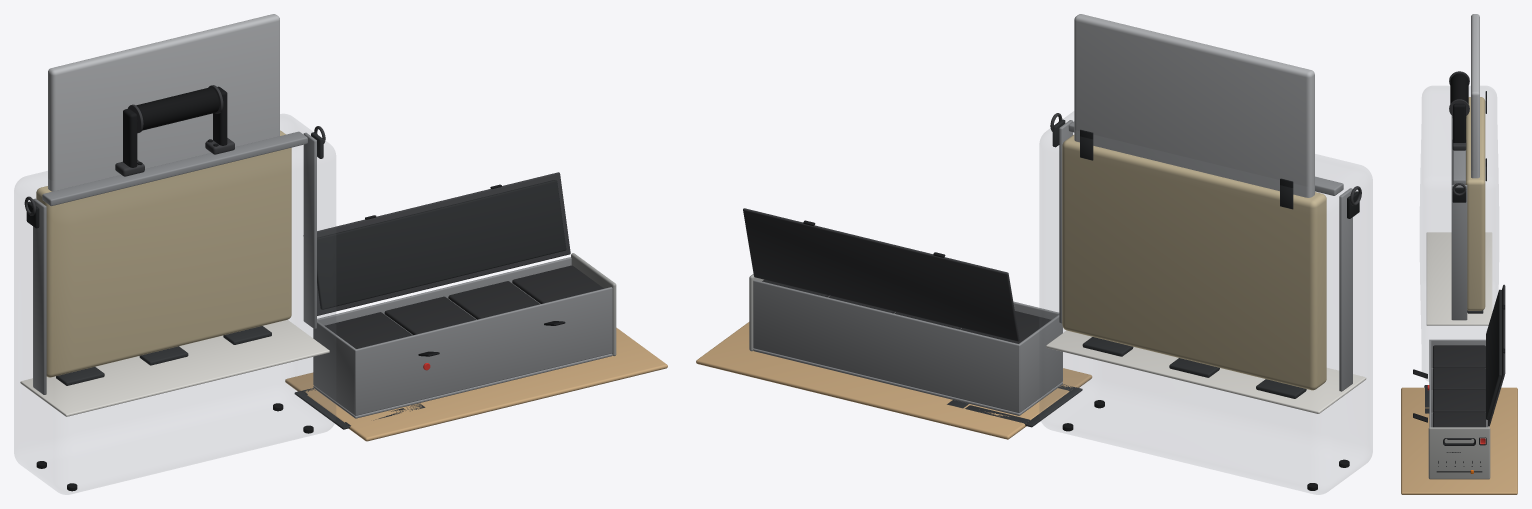
Rendered from heavy-brief-open.glb.
3 renders of one model, left to right at view 1: azimuth 30°, elevation 25°; view 2: azimuth 150°, elevation 25°; view 3: azimuth 270°, elevation 25°, orthographic. The views are drawn at different scales.
Visible parts, largest first — view 1: Brief suspended sleeve.002, Brief body.002, Brief laptop surrogate.002, Brief cassette lid pad.002, Brief cassette front wall.002, Brief HDPE barrier.002, Slide mat / adjacent support (>=450 long), Brief frame bridge.002, Brief cassette lid.002, Brief cassette end wall.002, Brief end stay.005, Brief end stay.004 (+9 smaller); view 2: Brief suspended sleeve.002, Brief body.002, Brief laptop surrogate.002, Brief cassette rear wall.002, Brief cassette lid.002, Slide mat / adjacent support (>=450 long), Brief HDPE barrier.002, Brief cassette end wall.002, Brief end stay.004, Brief cassette floor.002, Brief end stay.005, Brief brick s0p2.002; view 3: Brief body.002, Slide mat / adjacent support (>=450 long), Brief HDPE barrier.002, Brief suspended sleeve.002, Brief cassette end cap.002, Brief end stay.005, Brief cassette lid pad.002, Brief laptop surrogate.002, Brief brick s1p2.002, Brief brick s0p2.002, Brief brick s2p2.002, Brief brick s3p2.002 (+8 smaller).
Part boxes in pixels (x1,y1,x2,y2): Brief suspended sleeve.002: [36, 130, 291, 377]; Brief body.002: [14, 114, 335, 494]; Brief laptop surrogate.002: [48, 14, 279, 191]; Brief cassette lid pad.002: [317, 180, 566, 309]; Brief cassette front wall.002: [354, 287, 612, 415]; Brief HDPE barrier.002: [20, 320, 329, 416]; Slide mat / adjacent support (>=450 long): [285, 327, 667, 441]; Brief frame bridge.002: [42, 131, 307, 206]; Brief cassette lid.002: [303, 172, 570, 315]; Brief cassette end wall.002: [313, 320, 356, 415]; Brief end stay.005: [303, 132, 316, 328]; Brief end stay.004: [33, 198, 46, 394]; Brief suspended sleeve.002: [1062, 135, 1326, 390]; Brief body.002: [1040, 112, 1372, 494]; Brief laptop surrogate.002: [1074, 14, 1314, 197]; Brief cassette rear wall.002: [753, 280, 1020, 412]; Brief cassette lid.002: [743, 208, 1019, 341]; Slide mat / adjacent support (>=450 long): [696, 322, 1092, 439]; Brief HDPE barrier.002: [1046, 330, 1366, 413]; Brief cassette end wall.002: [1018, 314, 1062, 412]; Brief end stay.004: [1339, 188, 1352, 391]; Brief cassette floor.002: [753, 348, 1062, 415]; Brief end stay.005: [1059, 120, 1072, 323]; Brief brick s0p2.002: [960, 311, 1051, 343]; Brief body.002: [1420, 86, 1498, 380]; Slide mat / adjacent support (>=450 long): [1401, 387, 1517, 494]; Brief HDPE barrier.002: [1426, 232, 1492, 325]; Brief suspended sleeve.002: [1465, 97, 1485, 310]; Brief cassette end cap.002: [1428, 427, 1490, 479]; Brief end stay.005: [1451, 185, 1467, 320]; Brief cassette lid pad.002: [1486, 289, 1501, 419]; Brief laptop surrogate.002: [1471, 14, 1479, 178]; Brief brick s1p2.002: [1433, 367, 1485, 390]; Brief brick s0p2.002: [1433, 345, 1485, 367]; Brief brick s2p2.002: [1433, 390, 1485, 412]; Brief brick s3p2.002: [1433, 412, 1485, 427].
Size of the model in its own units: 0.9299 by 0.592 by 0.22.
